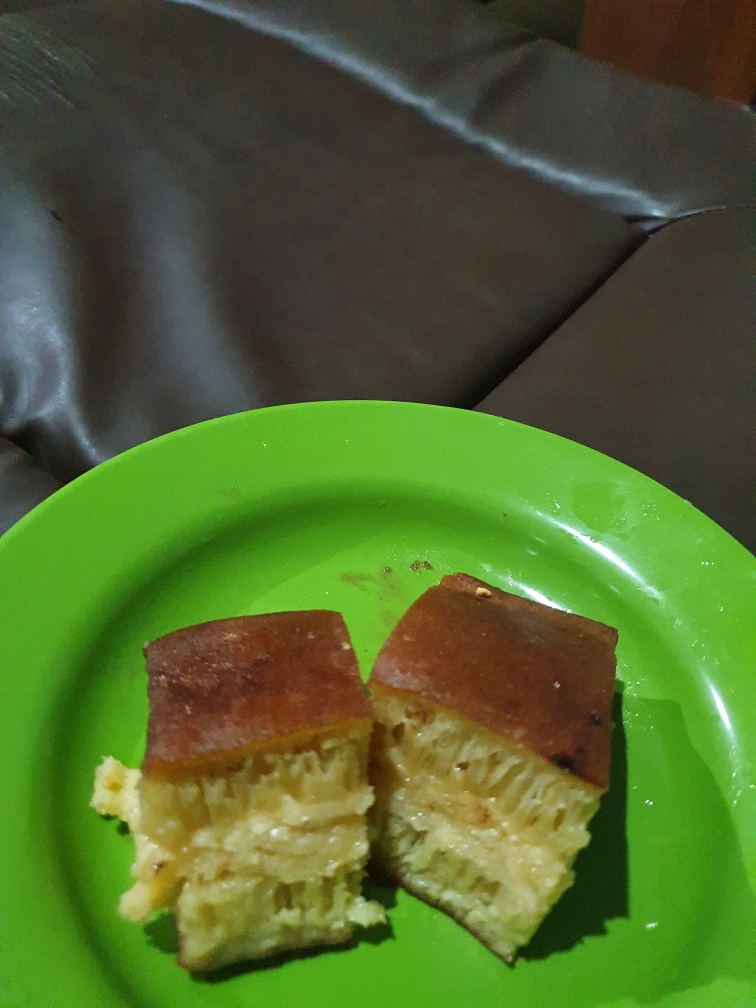martabak manis: (370, 554, 619, 960), (105, 611, 377, 960)
